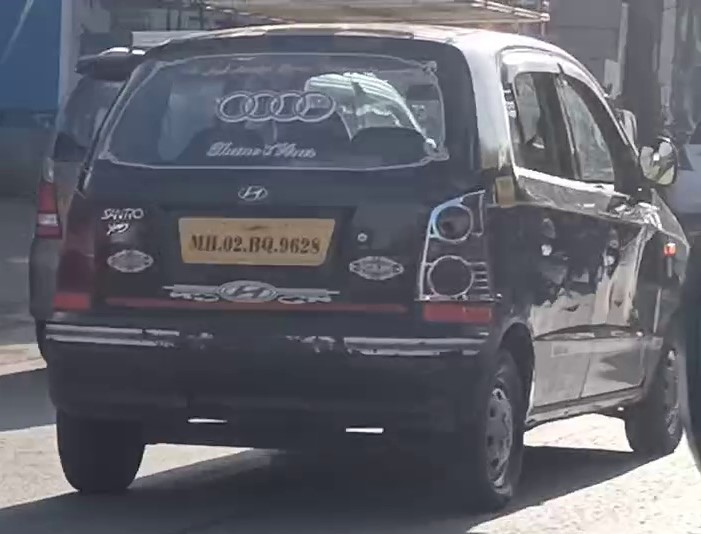MH02BQ9628: (178, 217, 335, 266)
